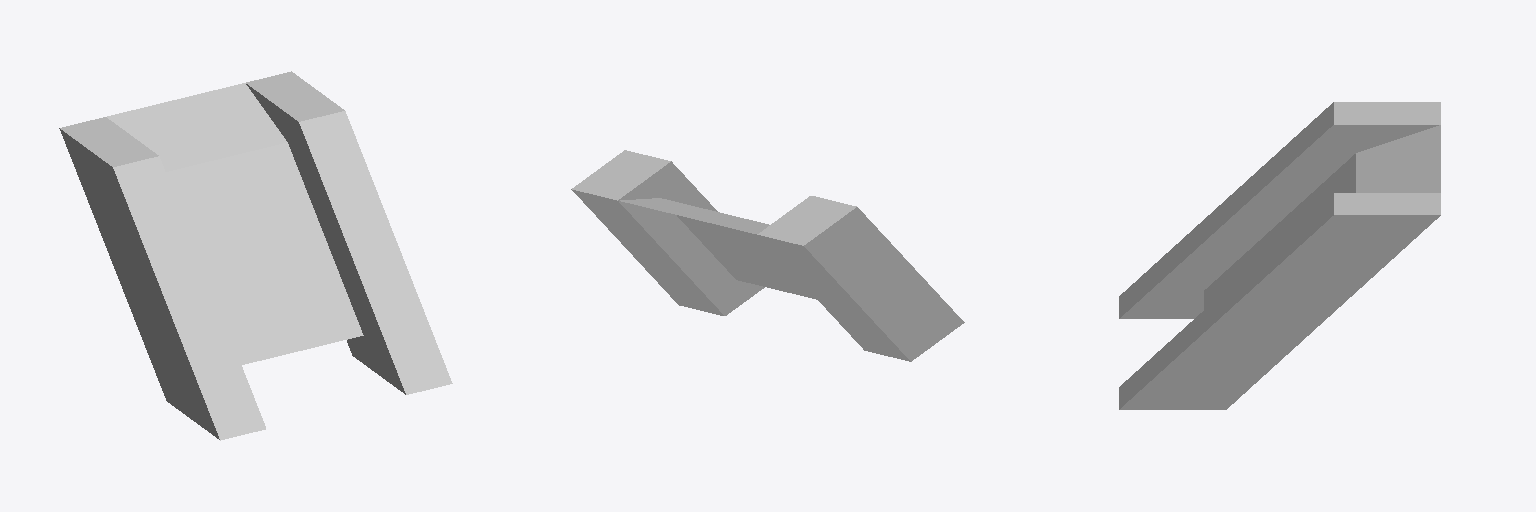
Rendered from r0_skinnyShortStair.obj.
The picture shows the model from 3 angles: view 1: azimuth 30°, elevation 25°; view 2: azimuth 150°, elevation 25°; view 3: azimuth 270°, elevation 25°; orthographic projection.
Parts seen in each view (by area): view 1: map; view 2: map; view 3: map.
Part boxes in pixels (bbox=[...]): map: bbox=[59, 71, 452, 440]; map: bbox=[571, 150, 964, 361]; map: bbox=[1119, 102, 1440, 409].
Size of the model in its own units: 1.25 by 1 by 1.5.